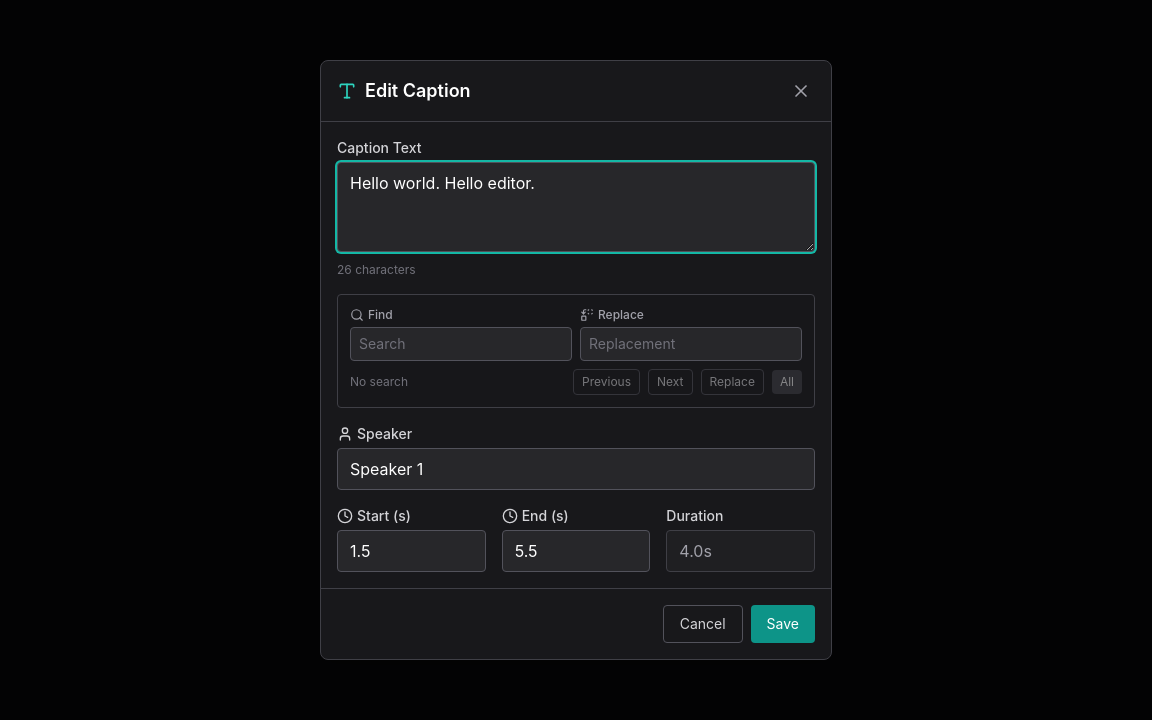
CaptionEditor › Text Editing › replaces the active caption text match
This screenshot has width=1152, height=720.
In the search field named "find in caption": (461, 344) [350,327,572,361], type "Hello"
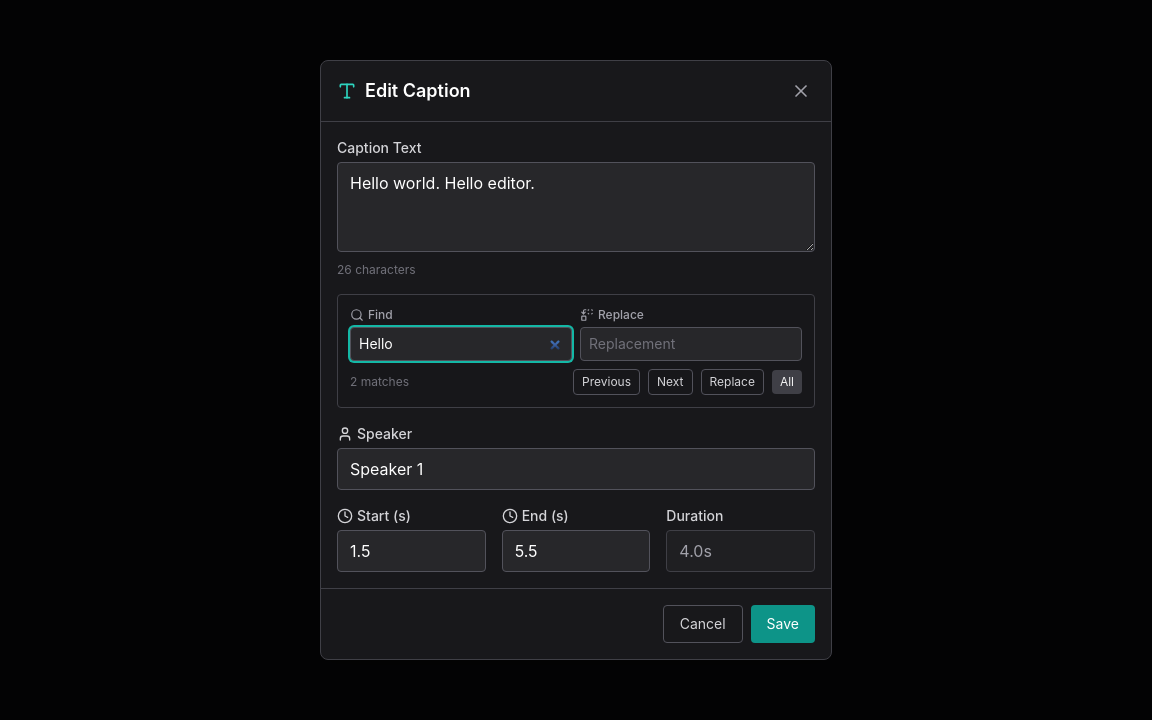
In the field named "replace with": (691, 344) [580,327,802,361], type "Hi"
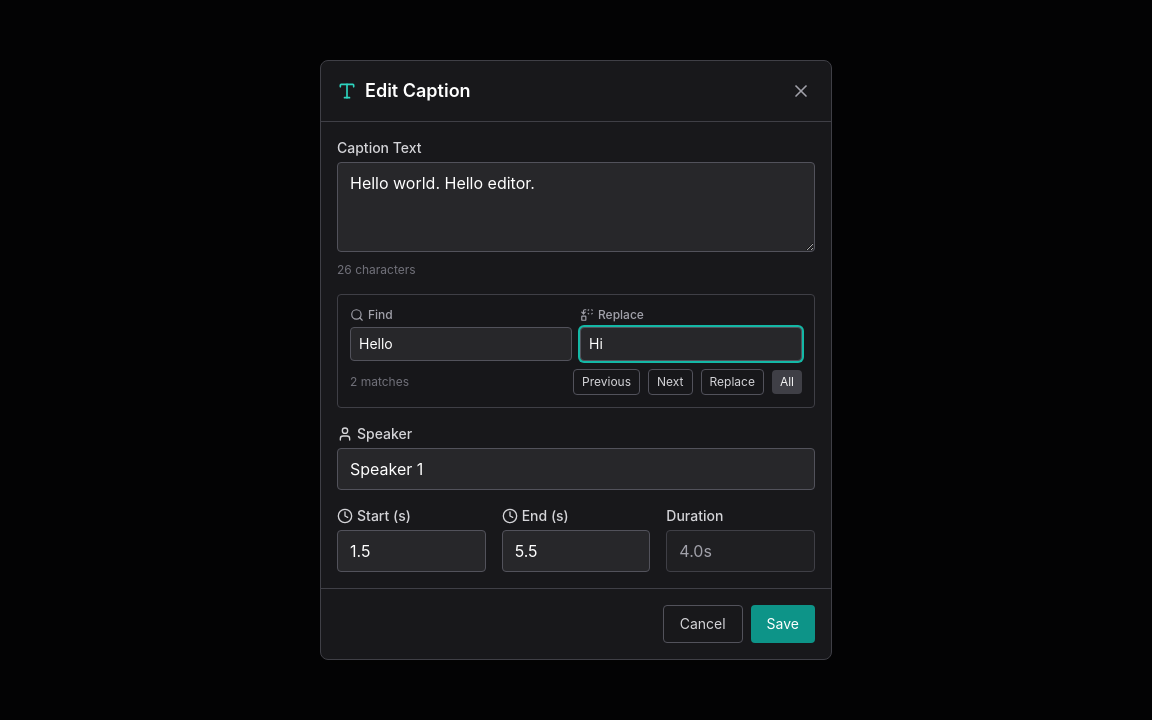
Click the button "Replace": (732, 382) [700,369,764,395]
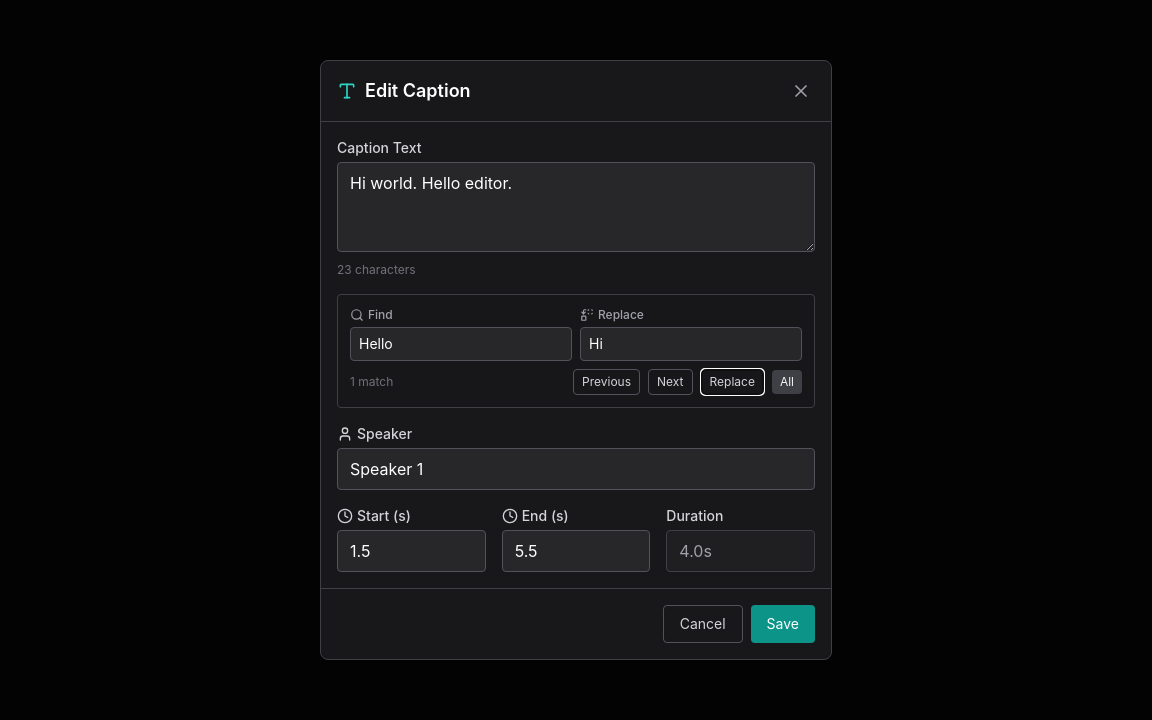
Expected: the text box labelled "Caption Text" holds "Hi world. Hello editor.", [337,162,815,252]
